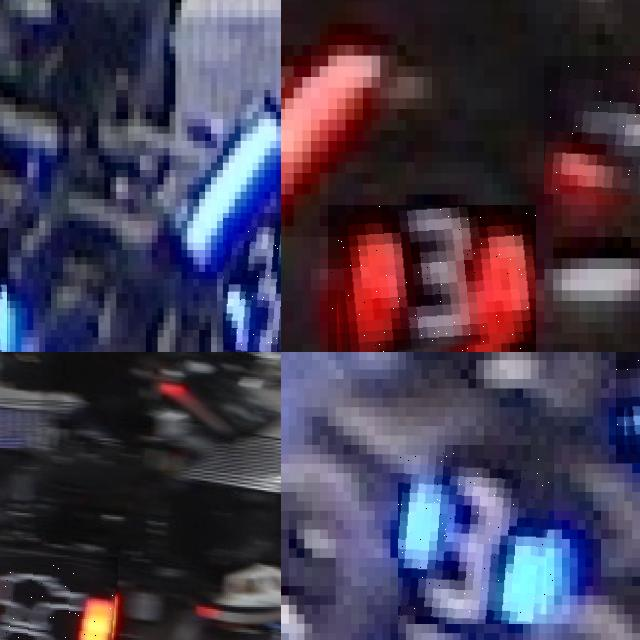B3: (398, 445, 554, 624), (223, 213, 281, 352)
R3: (328, 204, 535, 352), (544, 55, 640, 194)
Rs: (0, 557, 117, 640)
